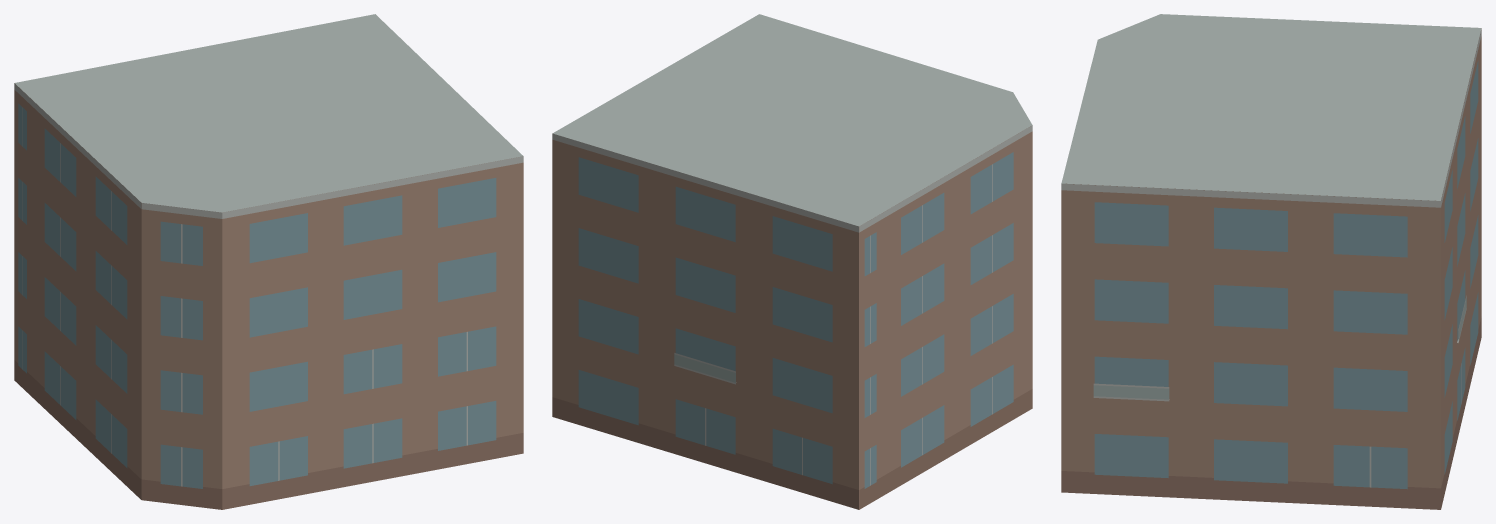
Rendered from survey-upis-32798496.glb.
The picture shows the model from 3 angles, left to right: view 1: azimuth 30°, elevation 25°; view 2: azimuth 150°, elevation 25°; view 3: azimuth 270°, elevation 25°; orthographic projection. The views are drawn at different scales.
Parts seen in each view (by area): view 1: survey-upis-32798496.tmp; view 2: survey-upis-32798496.tmp; view 3: survey-upis-32798496.tmp.
Part boxes in pixels (box(x1,y1,x2,y2)): survey-upis-32798496.tmp: box(14, 14, 523, 509); survey-upis-32798496.tmp: box(552, 14, 1032, 509); survey-upis-32798496.tmp: box(1061, 14, 1481, 509).
Size of the model in its own units: 14.55 by 11.2 by 13.82.
